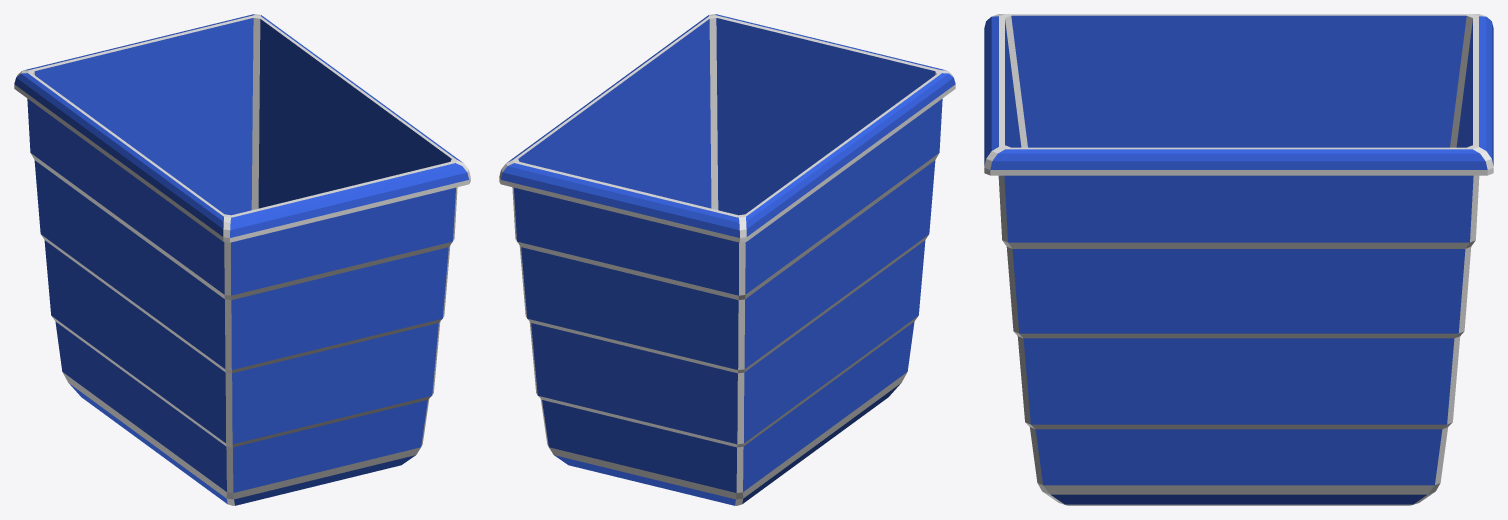
Rendered from bin tall.fbx.
3 views of the same model, side by side, from view 1: azimuth 30°, elevation 25°; view 2: azimuth 150°, elevation 25°; view 3: azimuth 270°, elevation 25° (orthographic). The views are drawn at different scales.
Parts seen in each view (by area): view 1: Waste Bin_paper; view 2: Waste Bin_paper; view 3: Waste Bin_paper.
Boxes of the visible parts, bbox=[...] form: Waste Bin_paper: bbox=[14, 14, 470, 505]; Waste Bin_paper: bbox=[499, 14, 955, 505]; Waste Bin_paper: bbox=[984, 14, 1493, 505].
Size of the model in its own units: 200 by 245 by 300.
